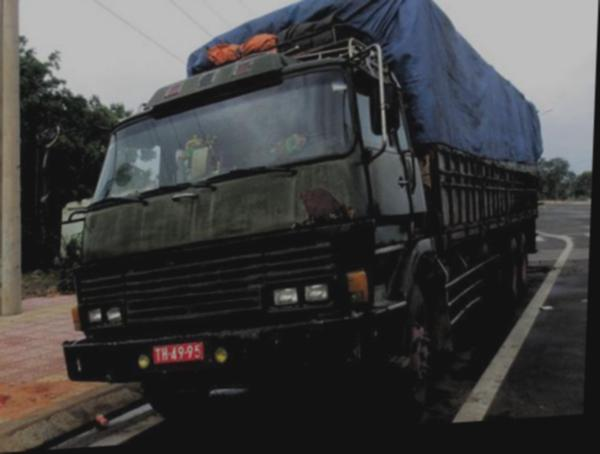License_Plate: (152, 338, 206, 365)
